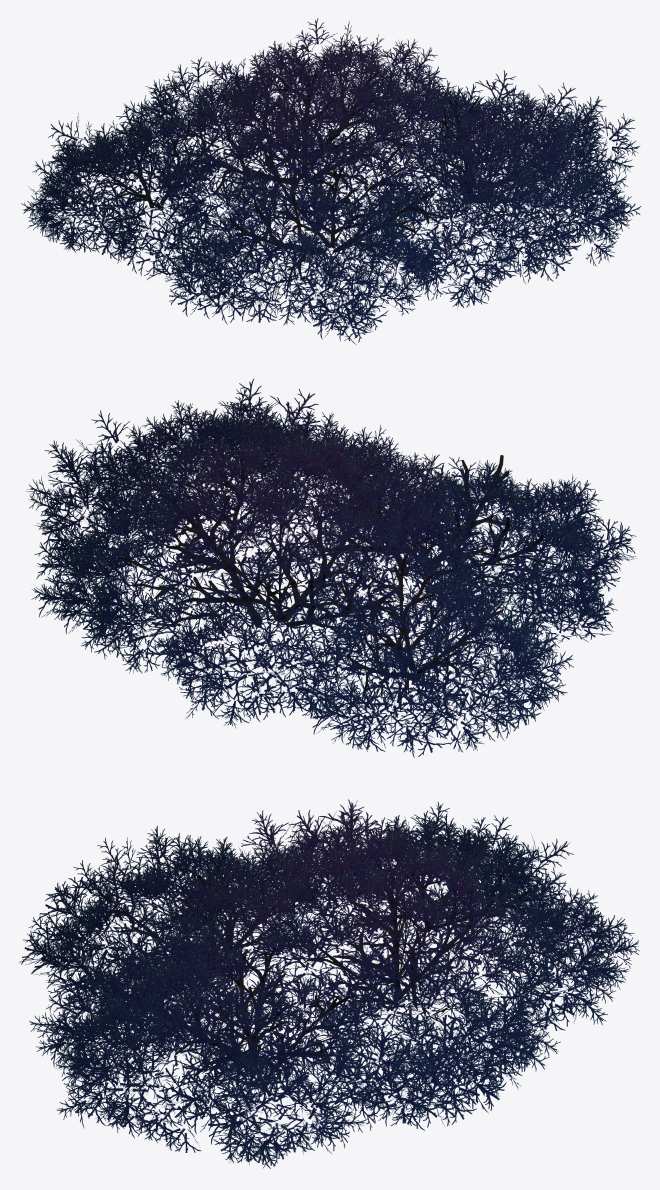
The model's file is SM_Env_Bush_Tropical_04.gltf.
3 views of the same model, one above another, from view 1: azimuth 30°, elevation 25°; view 2: azimuth 150°, elevation 25°; view 3: azimuth 270°, elevation 25° (orthographic). The views are drawn at different scales.
Visible parts, largest first — view 1: SM_Env_Bush_Tropical_04_Leaves_LOD0, SM_Env_Bush_Tropical_04_Branches_LOD0; view 2: SM_Env_Bush_Tropical_04_Leaves_LOD0, SM_Env_Bush_Tropical_04_Branches_LOD0; view 3: SM_Env_Bush_Tropical_04_Leaves_LOD0, SM_Env_Bush_Tropical_04_Branches_LOD0.
Boxes of the visible parts, box(x1,y1,x2,y2) form: SM_Env_Bush_Tropical_04_Leaves_LOD0: box(21, 18, 640, 344); SM_Env_Bush_Tropical_04_Branches_LOD0: box(73, 71, 548, 284); SM_Env_Bush_Tropical_04_Leaves_LOD0: box(26, 379, 636, 757); SM_Env_Bush_Tropical_04_Branches_LOD0: box(118, 444, 556, 710); SM_Env_Bush_Tropical_04_Leaves_LOD0: box(19, 799, 639, 1168); SM_Env_Bush_Tropical_04_Branches_LOD0: box(91, 830, 541, 1084).
Size of what is drawn, in the model's own units: 7.77 by 2.71 by 6.61.
2 materials, 2 textured.
